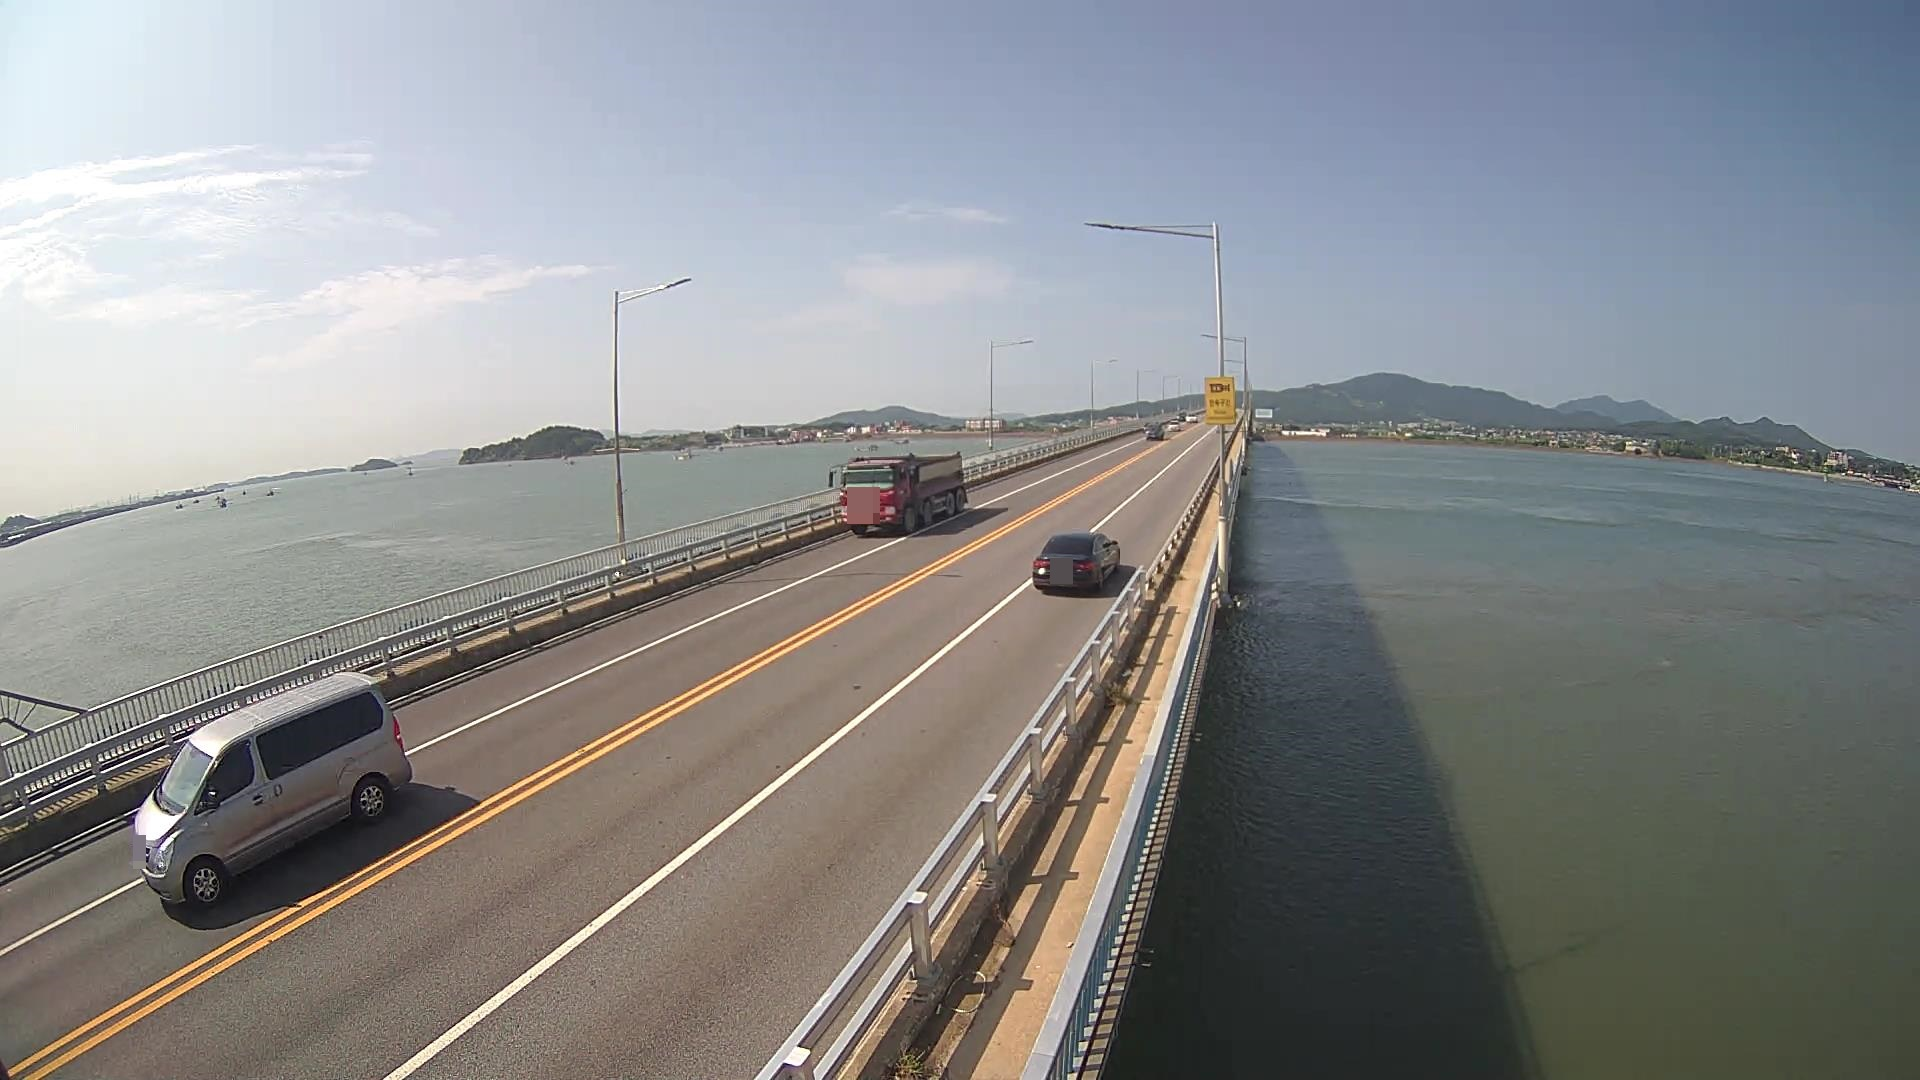정상차량: (829, 450, 968, 536)
